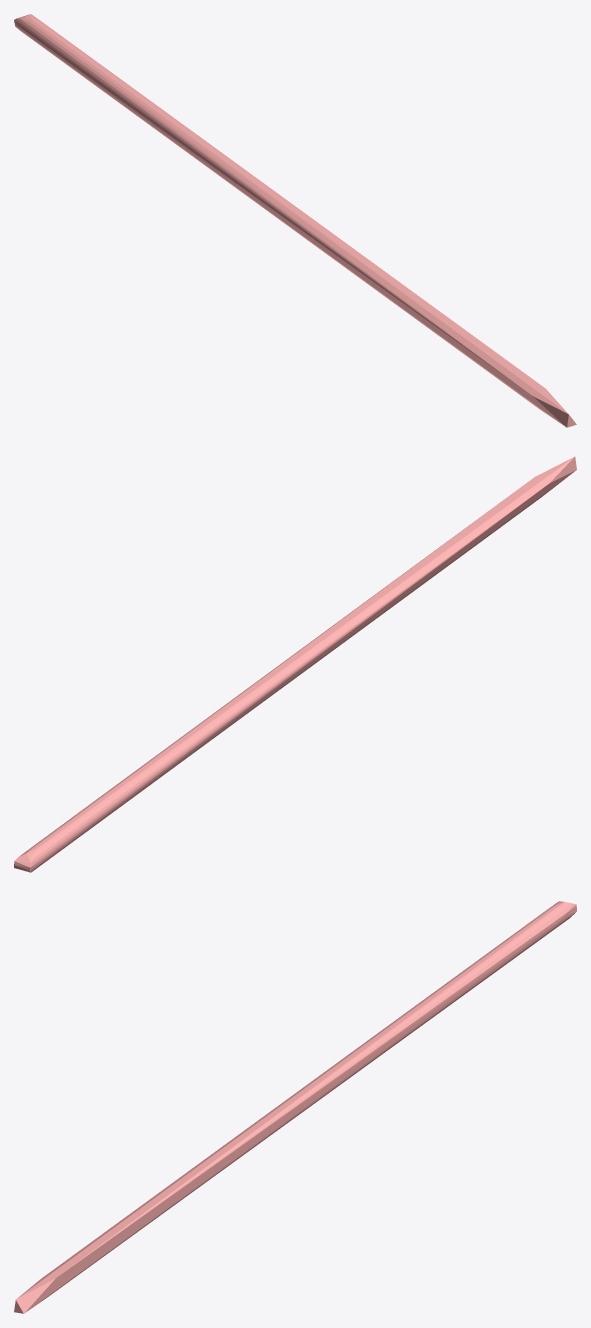
Rendered from dvkr_robot_L1_respondable_TOOL2_coll_1.dae.
3 views of the same model, one above another, from view 1: azimuth 30°, elevation 25°; view 2: azimuth 150°, elevation 25°; view 3: azimuth 330°, elevation 25° (orthographic).
Visible parts, largest first — view 1: Node_0000023515112660; view 2: Node_0000023515112660; view 3: Node_0000023515112660.
Part boxes in pixels (x1=…): Node_0000023515112660: x1=14, y1=14, x2=576, y2=427; Node_0000023515112660: x1=14, y1=456, x2=576, y2=872; Node_0000023515112660: x1=14, y1=901, x2=576, y2=1313.
Bounding box in the file's own units: 0.00832 × 0.00875 × 0.4541.
